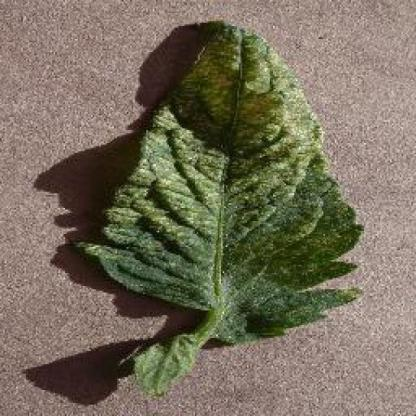Tomato_Spider_Mites: (72, 26, 360, 338)
